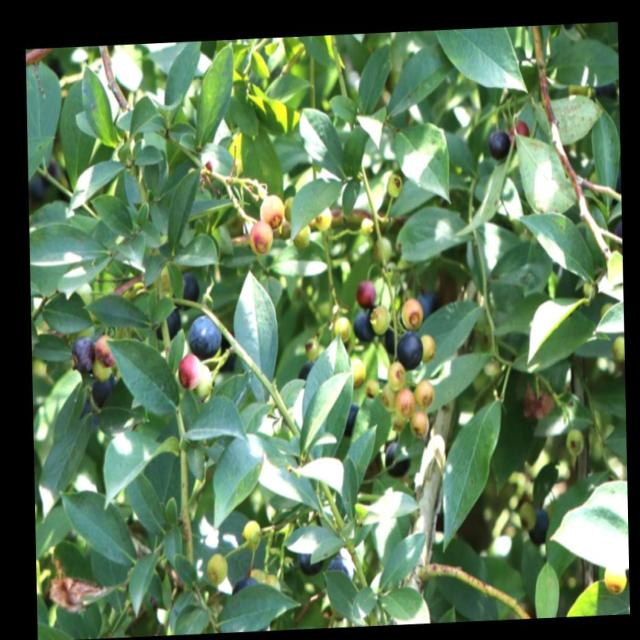blueberry: (188, 309, 222, 358), (148, 303, 184, 339), (391, 328, 422, 368), (525, 504, 553, 548), (68, 335, 98, 371), (383, 440, 412, 477), (171, 272, 201, 307), (294, 544, 326, 576), (351, 308, 374, 344), (92, 372, 116, 406), (328, 550, 354, 580), (487, 128, 512, 158), (230, 572, 262, 594), (340, 402, 361, 434)
blueberry-halfripe: (257, 192, 288, 230), (176, 351, 202, 393), (248, 218, 274, 256), (354, 276, 378, 311)
blueberry-unripe: (599, 558, 629, 595), (398, 296, 424, 333), (407, 403, 432, 440), (412, 375, 437, 409), (420, 324, 440, 366), (564, 422, 585, 460), (205, 550, 228, 584), (394, 384, 414, 423), (240, 520, 262, 552), (291, 223, 315, 250), (347, 350, 365, 386), (333, 313, 354, 342), (312, 207, 334, 234), (386, 359, 404, 389), (614, 333, 624, 360)
